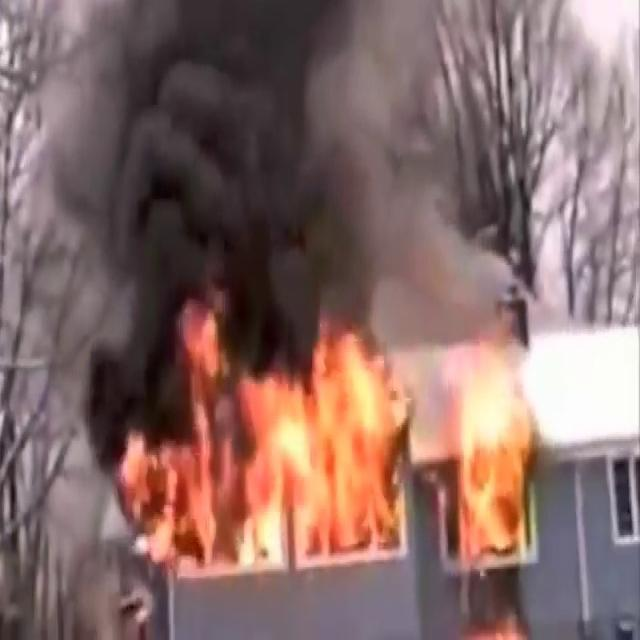Fire: (120, 302, 550, 592)
Smoke: (30, 0, 522, 375)
